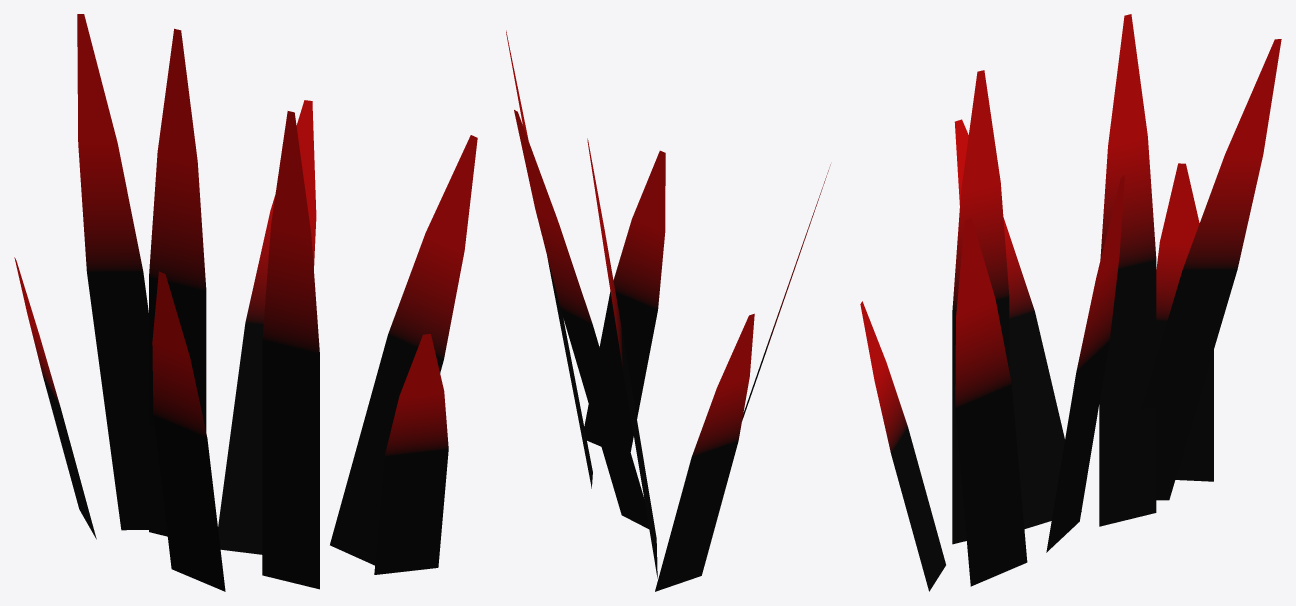
The model's file is SM_Grass.fbx.
3 renders of one model, left to right at view 1: azimuth 30°, elevation 25°; view 2: azimuth 150°, elevation 25°; view 3: azimuth 270°, elevation 25°, orthographic. The views are drawn at different scales.
Parts seen in each view (by area): view 1: pasted__pPlane5; view 2: pasted__pPlane5; view 3: pasted__pPlane5.
Boxes of the visible parts, x1,y1,x2,y2 form: pasted__pPlane5: [14, 14, 477, 591]; pasted__pPlane5: [506, 30, 830, 591]; pasted__pPlane5: [860, 14, 1281, 591].
Bounding box in the file's own units: 27.9 × 39.38 × 29.05.
